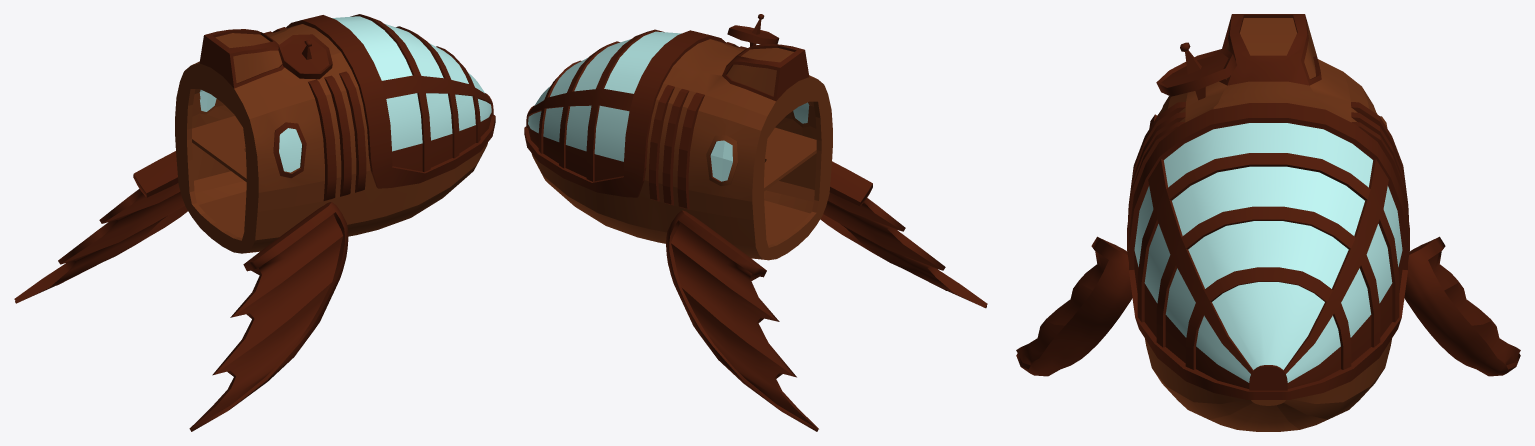
Rendered from Submarine Front.fbx.
3 renders of one model, left to right at view 1: azimuth 30°, elevation 25°; view 2: azimuth 150°, elevation 25°; view 3: azimuth 270°, elevation 25°, orthographic. The views are drawn at different scales.
Visible parts, largest first — view 1: Submarine_Front, Fin, SubmarineWindow, FrontWindow_R; view 2: Submarine_Front, Fin, SubmarineWindow, FrontWindow_L; view 3: SubmarineWindow, Submarine_Front, Fin.
Boxes of the visible parts, left/top/right/bottom form: Submarine_Front: left=175, top=15, right=495, bottom=253; Fin: left=14, top=151, right=348, bottom=431; SubmarineWindow: left=332, top=14, right=493, bottom=172; FrontWindow_R: left=279, top=128, right=301, bottom=172; Submarine_Front: left=524, top=14, right=832, bottom=260; Fin: left=666, top=161, right=987, bottom=431; SubmarineWindow: left=526, top=29, right=681, bottom=181; FrontWindow_L: left=710, top=140, right=732, bottom=181; SubmarineWindow: left=1134, top=123, right=1402, bottom=390; Submarine_Front: left=1127, top=14, right=1409, bottom=431; Fin: left=1016, top=236, right=1520, bottom=376.
Bounding box in the file's own units: 59.9 × 45.39 × 47.64.
